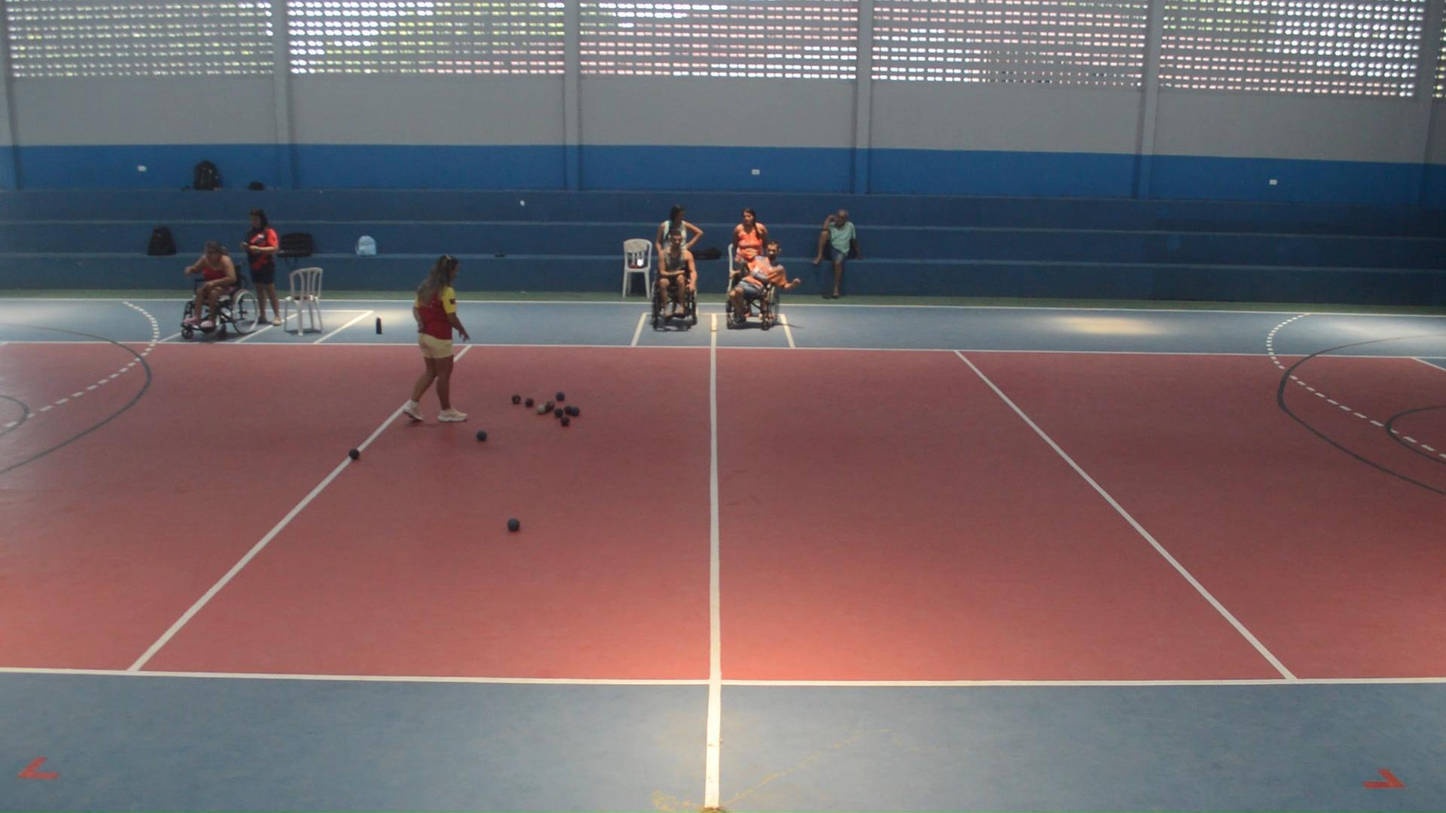blue_ball: (506, 517, 521, 533), (475, 430, 488, 443), (348, 448, 360, 461), (569, 405, 581, 417), (553, 407, 564, 419), (554, 391, 566, 402)
red_ball: (510, 393, 522, 405), (523, 397, 535, 409), (559, 416, 571, 428), (546, 400, 556, 411), (564, 404, 573, 415)
white_ball: (536, 403, 547, 415)
